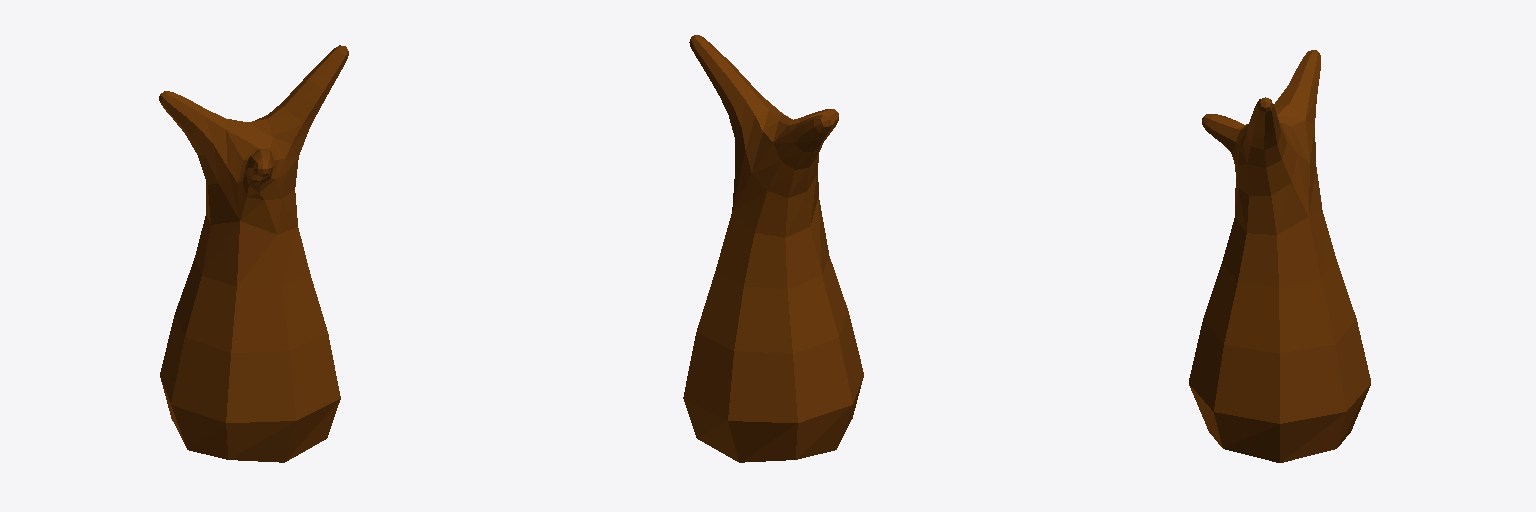
The model's file is Planta01.obj.
3 renders of one model, left to right at view 1: azimuth 30°, elevation 25°; view 2: azimuth 150°, elevation 25°; view 3: azimuth 270°, elevation 25°, orthographic.
Parts seen in each view (by area): view 1: Plane.001; view 2: Plane.001; view 3: Plane.001.
Boxes of the visible parts, box(x1,y1,x2,y2) form: Plane.001: box(159, 45, 348, 462); Plane.001: box(683, 35, 863, 462); Plane.001: box(1189, 50, 1370, 462).
Size of the model in its own units: 1.35 by 2.99 by 1.26.